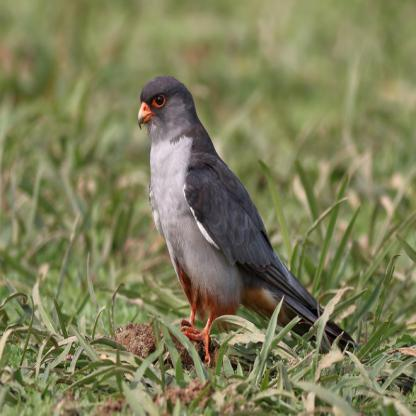Burung: (135, 74, 359, 359)
